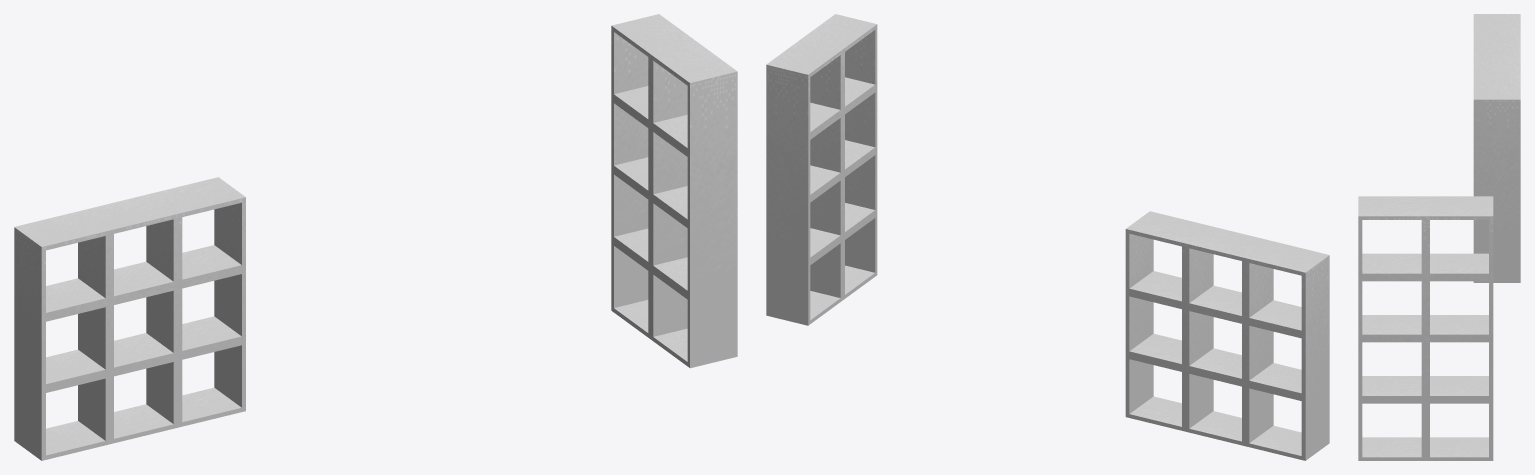
Rendered from Bedroom_Kallax.fbx.
The picture shows the model from 3 angles, left to right: view 1: azimuth 30°, elevation 25°; view 2: azimuth 150°, elevation 25°; view 3: azimuth 270°, elevation 25°; orthographic projection. The views are drawn at different scales.
Visible parts, largest first — view 1: Cube.003, Cube.004; view 2: Cube.003, Cube.004; view 3: Cube.004, Cube.003.
Boxes of the visible parts, x1,y1,x2,y2 form: Cube.003: (14, 177, 245, 460); Cube.004: (611, 14, 737, 368); Cube.003: (1125, 211, 1329, 460); Cube.004: (766, 14, 877, 325); Cube.004: (1358, 196, 1493, 460); Cube.003: (1473, 14, 1520, 282).
Size of the model in its own units: 458 by 198 by 120.
